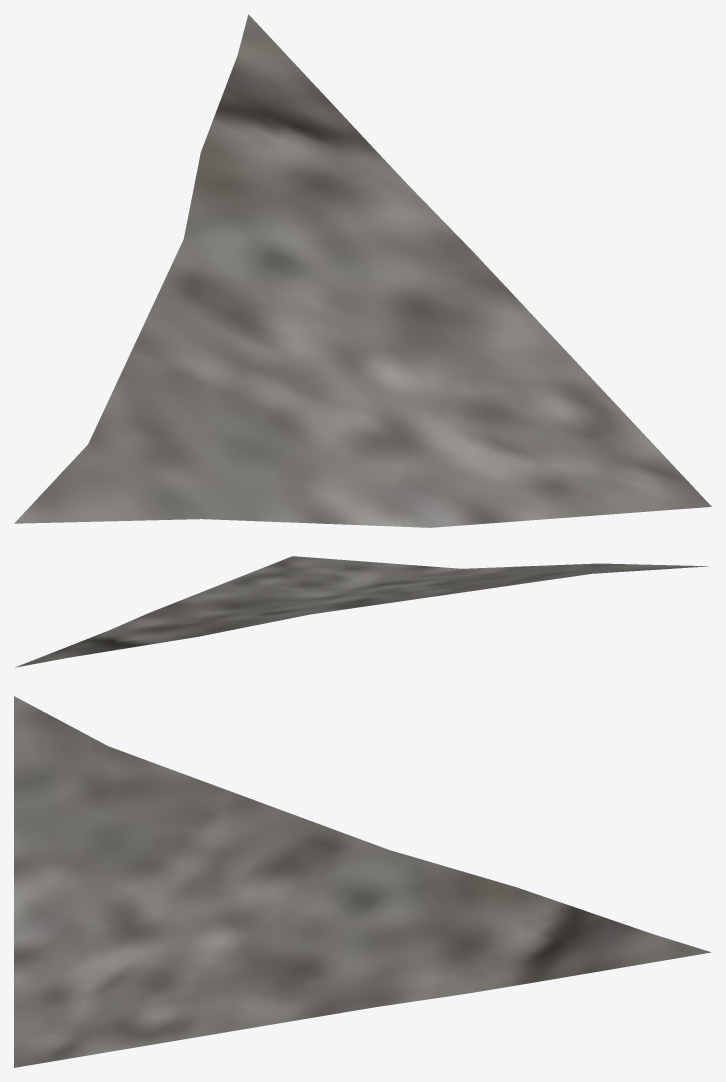
The picture shows the model from 3 angles, top to bottom: view 1: azimuth 30°, elevation 25°; view 2: azimuth 150°, elevation 25°; view 3: azimuth 270°, elevation 25°; orthographic projection. The views are drawn at different scales.
Size of the model in its own units: 0.3589 by 0.0754 by 0.4128.
1 material, 1 textured.
